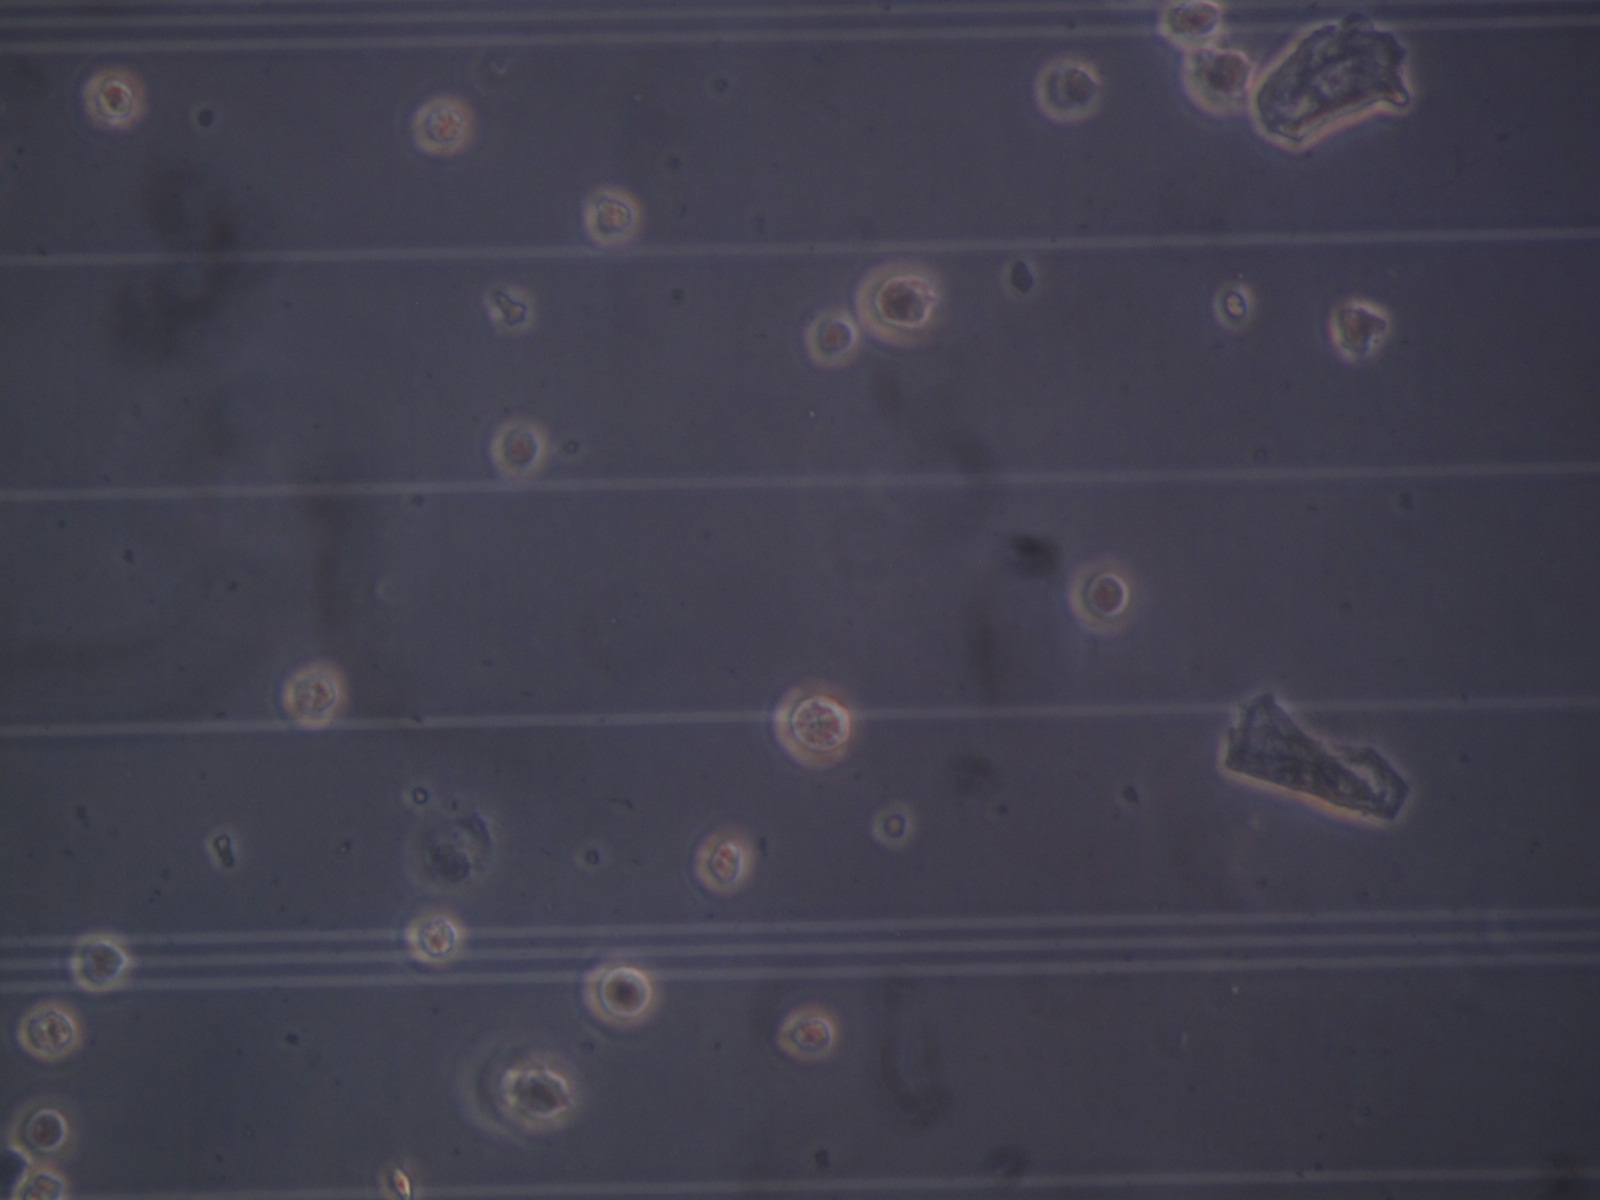hemo: (855, 260, 944, 345), (772, 679, 855, 768), (496, 1053, 580, 1132), (1180, 44, 1255, 117), (581, 961, 655, 1030), (1067, 558, 1133, 635), (1034, 58, 1104, 124), (282, 661, 344, 729), (8, 1098, 76, 1158), (16, 1000, 81, 1063), (81, 67, 146, 129), (411, 95, 472, 156), (69, 933, 131, 995), (693, 829, 751, 894), (1329, 299, 1388, 361), (583, 185, 641, 247), (489, 417, 546, 478), (776, 1006, 837, 1063), (1157, 1, 1226, 50), (803, 309, 860, 367), (404, 909, 462, 966), (1212, 281, 1256, 332), (1, 1138, 34, 1200), (872, 804, 913, 848), (13, 1168, 69, 1200)
